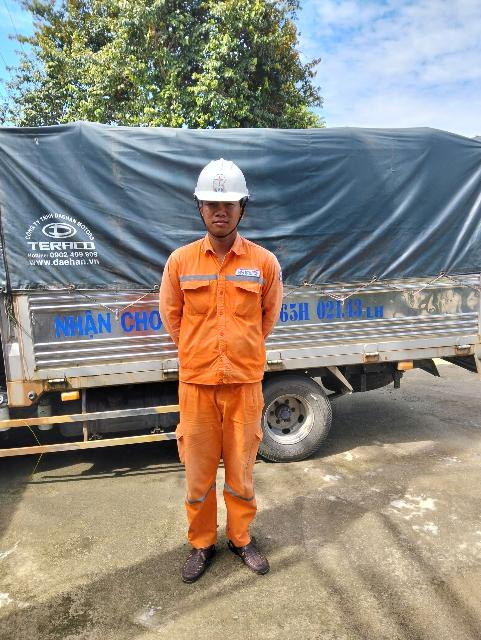helmet: (188, 152, 259, 202)
shoes: (168, 530, 224, 586), (225, 532, 277, 580)
